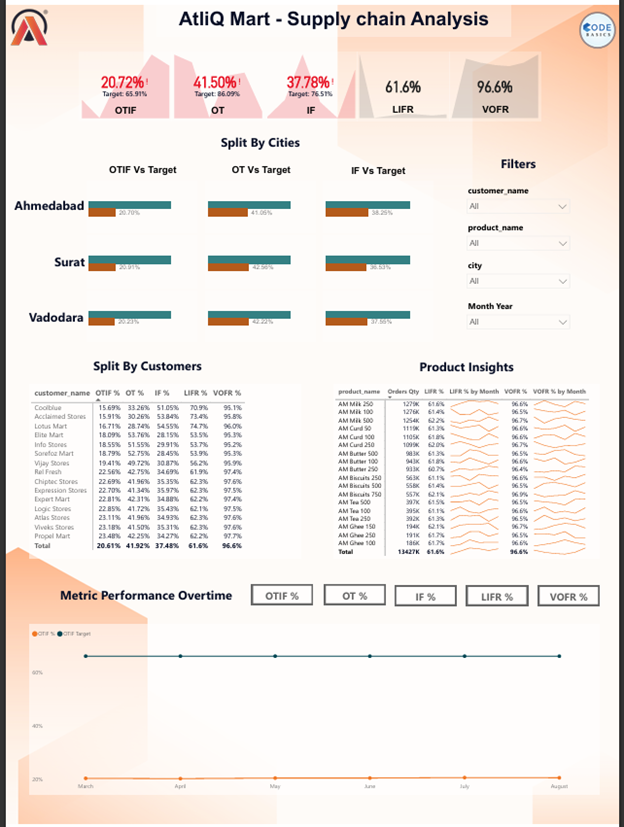

This screenshot's page, from the dashboard's own definition file:
{"tool":"powerbi","page":{"name":"Supply_Chain","canvas":[1200,1600],"ordinal":0},"visuals":[{"type":"image","box":[3.3,0,85,85],"z":0},{"type":"image","box":[1111.4,5.7,87.1,85.7],"z":1000},{"type":"kpi","fields":{"Indicator":["KM Order Agg.OTIF %"],"Goal":["KM Target Orders.Avg OTIF Tar"],"TrendLine":["dim_date.Month"]},"box":[143.9,91.4,180,134],"z":2000},{"type":"kpi","fields":{"Goal":["KM Target Orders.Avg In_Full Tar"],"Indicator":["KM Order Agg.IF %"],"TrendLine":["dim_date.Month"]},"box":[505.2,91.4,181.4,134],"z":3000},{"type":"kpi","fields":{"Indicator":["KM Order Agg.OT %"],"Goal":["KM Target Orders.Avg On_Time Tar"],"TrendLine":["dim_date.Month"]},"box":[323.9,91.4,181.4,134],"z":4000},{"type":"textbox","box":[144.1,189.2,180.5,37.9],"z":5000},{"type":"textbox","box":[324.6,189.2,180.5,37.9],"z":6000},{"type":"textbox","box":[506.6,189.2,180.5,37.9],"z":7000},{"type":"textbox","box":[158.3,245,678.3,43.3],"z":8000},{"type":"kpi","fields":{"Indicator":["KM Order Lines.LIFR %"],"TrendLine":["dim_date.Month"]},"box":[686.2,91.2,180,133.8],"z":9000},{"type":"kpi","fields":{"Indicator":["KM Order Lines.VOFR %"],"TrendLine":["dim_date.Month"]},"box":[866.2,91.2,178.8,133.8],"z":10000},{"type":"clusteredBarChart","fields":{"Y":["KM Order Agg.OTIF %","KM Target Orders.Avg OTIF Tar"]},"box":[158.6,344.3,215,100],"z":11000},{"type":"clusteredBarChart","fields":{"Y":["KM Order Agg.OTIF %","KM Target Orders.Avg OTIF Tar"]},"box":[158.6,449.3,215,102.9],"z":12000},{"type":"clusteredBarChart","fields":{"Y":["KM Order Agg.OTIF %","KM Target Orders.Avg OTIF Tar"]},"box":[158.6,557.1,215,100],"z":13000},{"type":"clusteredBarChart","fields":{"Y":["KM Order Agg.OT %","KM Target Orders.Avg On_Time Tar"]},"box":[390,344.2,215,100],"z":14000},{"type":"clusteredBarChart","fields":{"Y":["KM Order Agg.OT %","KM Target Orders.Avg On_Time Tar"]},"box":[390,449.2,215,102.5],"z":15000},{"type":"clusteredBarChart","fields":{"Y":["KM Order Agg.OT %","KM Target Orders.Avg On_Time Tar"]},"box":[389.7,558,215,99.2],"z":16000},{"type":"clusteredBarChart","fields":{"Y":["KM Order Agg.IF %","KM Target Orders.Avg In_Full Tar"]},"box":[620.8,344.2,215,100],"z":17000},{"type":"clusteredBarChart","fields":{"Y":["KM Order Agg.IF %","KM Target Orders.Avg In_Full Tar"]},"box":[620.8,449.2,215,102.5],"z":18000},{"type":"clusteredBarChart","fields":{"Y":["KM Order Agg.IF %","KM Target Orders.Avg In_Full Tar"]},"box":[620.8,558,215,99.2],"z":19000},{"type":"textbox","box":[1.6,370.8,156.2,43.8],"z":20000},{"type":"textbox","box":[1.6,479.5,157.5,42.5],"z":21000},{"type":"textbox","box":[1.6,587,155,43.8],"z":22000},{"type":"textbox","box":[159,306,215,40],"z":23000},{"type":"textbox","box":[390,305.8,217.5,38.3],"z":24000},{"type":"textbox","box":[620.8,307.5,215,36.7],"z":25000},{"type":"textbox","box":[296,0,690,62],"z":26000},{"type":"slicer","fields":{"Values":["dim_customers.customer_name"]},"box":[890,346.7,221.7,71.7],"z":27000},{"type":"slicer","fields":{"Values":["dim_products.product_name"]},"box":[890,418.9,222.2,72.2],"z":28000},{"type":"slicer","fields":{"Values":["dim_customers.city"]},"box":[890,491.1,222.2,72.2],"z":29000},{"type":"slicer","fields":{"Values":["dim_date.mmm_yy"]},"box":[890,571.1,222.2,71.1],"z":30000},{"type":"textbox","box":[686.2,188.8,180,36.2],"z":31000},{"type":"textbox","box":[867.5,188.8,177.5,36.2],"z":32000},{"type":"textbox","box":[890,288.9,222.2,55.6],"z":33000},{"type":"pivotTable","fields":{"Rows":["dim_products.product_name"],"Values":["KM Order Lines.Total Orders Qty","KM Order Lines.LIFR %","SparklineData(KM Order Lines.LIFR %_[dim_date.Month])","KM Order Lines.VOFR %","SparklineData(KM Order Lines.VOFR %_[dim_date.Month])"]},"box":[640,742.9,520,340],"z":34000},{"type":"pivotTable","fields":{"Rows":["dim_customers.customer_name"],"Values":["KM Order Agg.OTIF %","KM Order Agg.OT %","KM Order Agg.IF %","KM Order Lines.LIFR %","KM Order Lines.VOFR %"]},"box":[45.7,742.9,531.4,340],"z":37000},{"type":"textbox","box":[45.7,682.9,461.4,44.3],"z":38000},{"type":"textbox","box":[640,684.3,520,44.3],"z":39000},{"type":"textbox","box":[45.7,1130,455.7,44.3],"z":40000},{"type":"actionButton","box":[621.4,1132.9,120,40],"z":41000},{"type":"actionButton","box":[480,1132.9,120,40],"z":42000},{"type":"actionButton","box":[760,1134.3,120,40],"z":43000},{"type":"actionButton","box":[1040,1134.3,120,40],"z":44000},{"type":"actionButton","box":[900,1134.3,120,40],"z":45000},{"type":"lineChart","fields":{"Category":["dim_date.date.Variation.Date Hierarchy.Month"],"Y":["KM Order Agg.OTIF %","KM Target Orders.Avg OTIF Tar"]},"box":[45.7,1210,1114.3,332.9],"z":46000}]}

Visuals, with their boxes in screenshot pixels (x1, y1, x2, y2), scaled from the page's 1200x1600 canvas onto the 624x827 screenshot:
image: detection(2, 0, 46, 44)
image: detection(578, 3, 623, 47)
kpi - KM Order Agg.OTIF % x KM Target Orders.Avg OTIF Tar: detection(75, 47, 168, 117)
kpi - KM Target Orders.Avg In_Full Tar x KM Order Agg.IF %: detection(263, 47, 357, 117)
kpi - KM Order Agg.OT % x KM Target Orders.Avg On_Time Tar: detection(168, 47, 263, 117)
textbox: detection(75, 98, 169, 117)
textbox: detection(169, 98, 263, 117)
textbox: detection(263, 98, 357, 117)
textbox: detection(82, 127, 435, 149)
kpi - KM Order Lines.LIFR % x dim_date.Month: detection(357, 47, 450, 116)
kpi - KM Order Lines.VOFR % x dim_date.Month: detection(450, 47, 543, 116)
clusteredBarChart - KM Order Agg.OTIF % x KM Target Orders.Avg OTIF Tar: detection(82, 178, 194, 230)
clusteredBarChart - KM Order Agg.OTIF % x KM Target Orders.Avg OTIF Tar: detection(82, 232, 194, 285)
clusteredBarChart - KM Order Agg.OTIF % x KM Target Orders.Avg OTIF Tar: detection(82, 288, 194, 340)
clusteredBarChart - KM Order Agg.OT % x KM Target Orders.Avg On_Time Tar: detection(203, 178, 315, 230)
clusteredBarChart - KM Order Agg.OT % x KM Target Orders.Avg On_Time Tar: detection(203, 232, 315, 285)
clusteredBarChart - KM Order Agg.OT % x KM Target Orders.Avg On_Time Tar: detection(203, 288, 314, 340)
clusteredBarChart - KM Order Agg.IF % x KM Target Orders.Avg In_Full Tar: detection(323, 178, 435, 230)
clusteredBarChart - KM Order Agg.IF % x KM Target Orders.Avg In_Full Tar: detection(323, 232, 435, 285)
clusteredBarChart - KM Order Agg.IF % x KM Target Orders.Avg In_Full Tar: detection(323, 288, 435, 340)
textbox: detection(1, 192, 82, 214)
textbox: detection(1, 248, 83, 270)
textbox: detection(1, 303, 81, 326)
textbox: detection(83, 158, 194, 179)
textbox: detection(203, 158, 316, 178)
textbox: detection(323, 159, 435, 178)
textbox: detection(154, 0, 513, 32)
slicer - dim_customers.customer_name: detection(463, 179, 578, 216)
slicer - dim_products.product_name: detection(463, 217, 578, 254)
slicer - dim_customers.city: detection(463, 254, 578, 291)
slicer - dim_date.mmm_yy: detection(463, 295, 578, 332)
textbox: detection(357, 98, 450, 116)
textbox: detection(451, 98, 543, 116)
textbox: detection(463, 149, 578, 178)
pivotTable - dim_products.product_name x KM Order Lines.Total Orders Qty: detection(333, 384, 603, 560)
pivotTable - dim_customers.customer_name x KM Order Agg.OTIF %: detection(24, 384, 300, 560)
textbox: detection(24, 353, 264, 376)
textbox: detection(333, 354, 603, 377)
textbox: detection(24, 584, 261, 607)
actionButton: detection(323, 586, 386, 606)
actionButton: detection(250, 586, 312, 606)
actionButton: detection(395, 586, 458, 607)
actionButton: detection(541, 586, 603, 607)
actionButton: detection(468, 586, 530, 607)
lineChart - dim_date.date.Variation.Date Hierarchy.Month x KM Order Agg.OTIF %: detection(24, 625, 603, 797)
